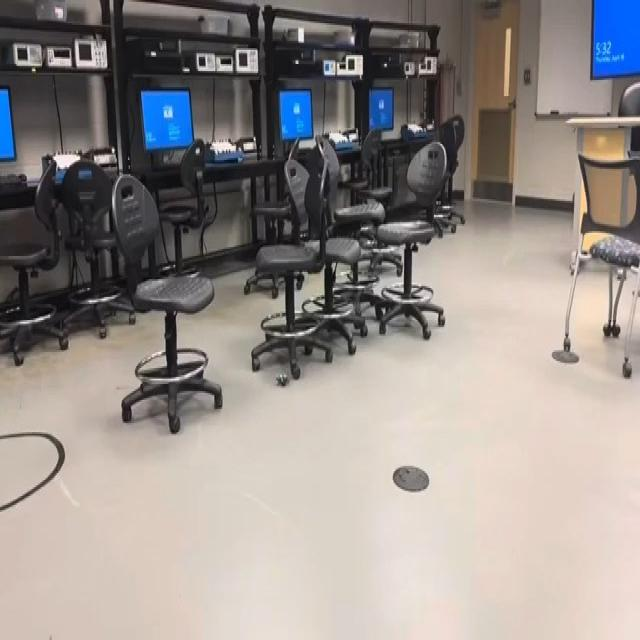drone: (269, 361, 297, 398)
